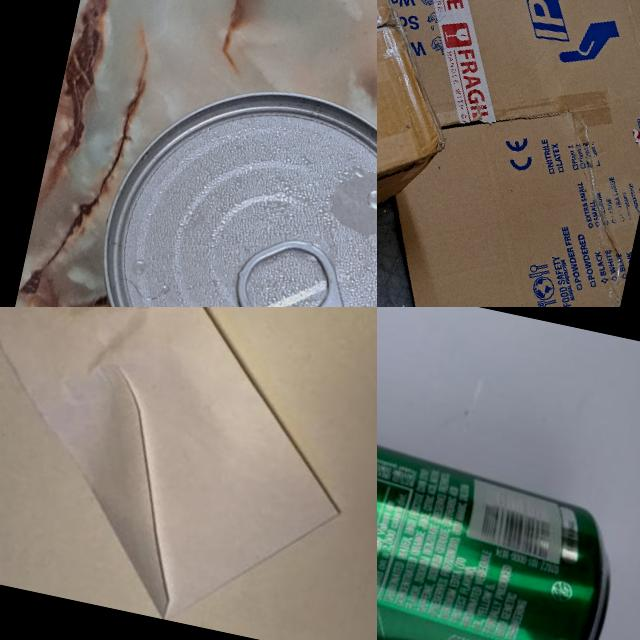aba de lata: (218, 229, 377, 307)
lata: (65, 59, 377, 307), (377, 386, 635, 640)
papel: (0, 307, 377, 640)
papelão: (377, 0, 640, 307), (377, 0, 488, 307)
